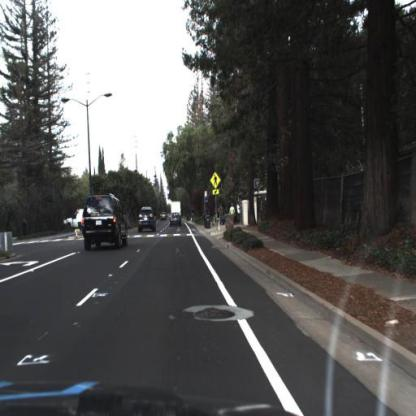car: (81, 193, 128, 255), (61, 206, 88, 233), (138, 204, 157, 234), (170, 210, 182, 228), (160, 211, 169, 223)
pedestrian: (237, 201, 245, 224), (230, 204, 237, 227), (237, 199, 243, 224), (231, 203, 236, 224)
truck: (170, 199, 183, 225)
